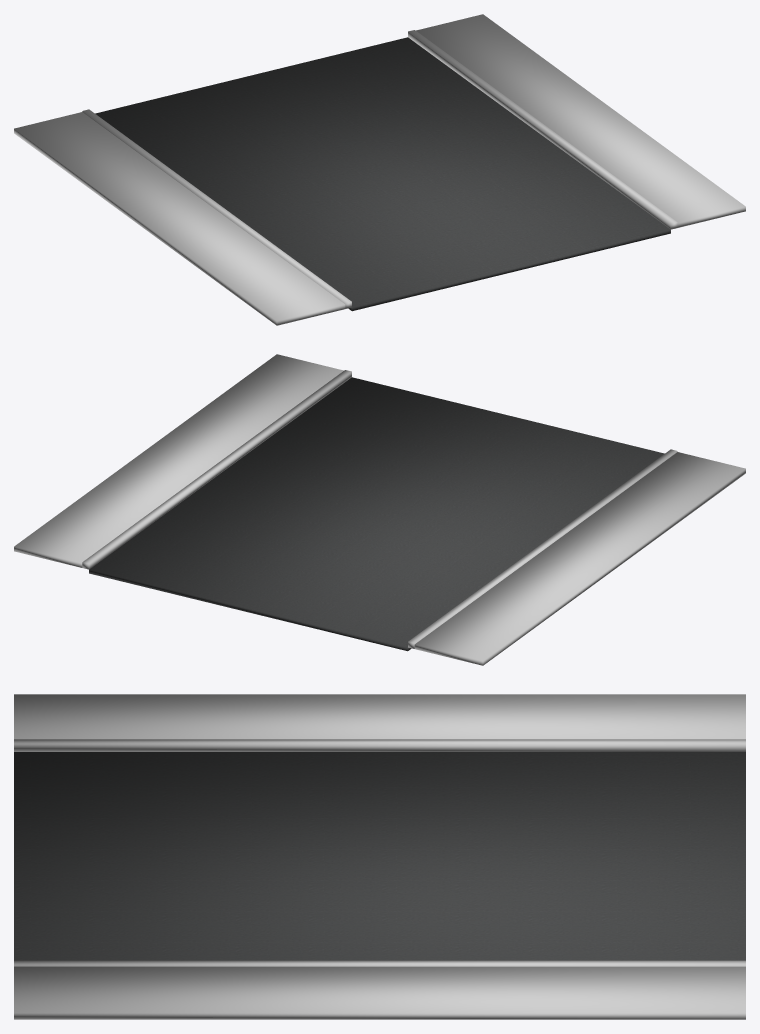
File: Road_Straight_7m_Sidewalk.fbx
3 views of the same model, one above another, from view 1: azimuth 30°, elevation 25°; view 2: azimuth 150°, elevation 25°; view 3: azimuth 270°, elevation 25° (orthographic). The views are drawn at different scales.
Visible parts, largest first — view 1: Road_Straight_7m_Sidewalk_Asphalt, Road_Straight_7m_Sidewalk_Sidewalk_L, Road_Straight_7m_Sidewalk_Sidewalk_R, Road_Straight_7m_Sidewalk_Kerb_R, Road_Straight_7m_Sidewalk_Kerb_L; view 2: Road_Straight_7m_Sidewalk_Asphalt, Road_Straight_7m_Sidewalk_Sidewalk_L, Road_Straight_7m_Sidewalk_Sidewalk_R, Road_Straight_7m_Sidewalk_Kerb_R, Road_Straight_7m_Sidewalk_Kerb_L; view 3: Road_Straight_7m_Sidewalk_Asphalt, Road_Straight_7m_Sidewalk_Sidewalk_R, Road_Straight_7m_Sidewalk_Sidewalk_L, Road_Straight_7m_Sidewalk_Kerb_L, Road_Straight_7m_Sidewalk_Kerb_R.
Boxes of the visible parts, bbox=[...] form: Road_Straight_7m_Sidewalk_Asphalt: bbox=[95, 37, 670, 311]; Road_Straight_7m_Sidewalk_Sidewalk_L: bbox=[14, 112, 345, 325]; Road_Straight_7m_Sidewalk_Sidewalk_R: bbox=[416, 14, 745, 227]; Road_Straight_7m_Sidewalk_Kerb_R: bbox=[408, 30, 677, 229]; Road_Straight_7m_Sidewalk_Kerb_L: bbox=[82, 109, 351, 308]; Road_Straight_7m_Sidewalk_Asphalt: bbox=[89, 377, 664, 651]; Road_Straight_7m_Sidewalk_Sidewalk_L: bbox=[414, 452, 745, 665]; Road_Straight_7m_Sidewalk_Sidewalk_R: bbox=[14, 354, 343, 567]; Road_Straight_7m_Sidewalk_Kerb_R: bbox=[82, 370, 351, 569]; Road_Straight_7m_Sidewalk_Kerb_L: bbox=[408, 449, 677, 648]; Road_Straight_7m_Sidewalk_Asphalt: bbox=[14, 752, 745, 960]; Road_Straight_7m_Sidewalk_Sidewalk_R: bbox=[14, 966, 745, 1019]; Road_Straight_7m_Sidewalk_Sidewalk_L: bbox=[14, 694, 745, 739]; Road_Straight_7m_Sidewalk_Kerb_L: bbox=[14, 739, 745, 751]; Road_Straight_7m_Sidewalk_Kerb_R: bbox=[14, 960, 745, 966].
Size of the model in its own units: 10.3 by 0.2 by 10.
